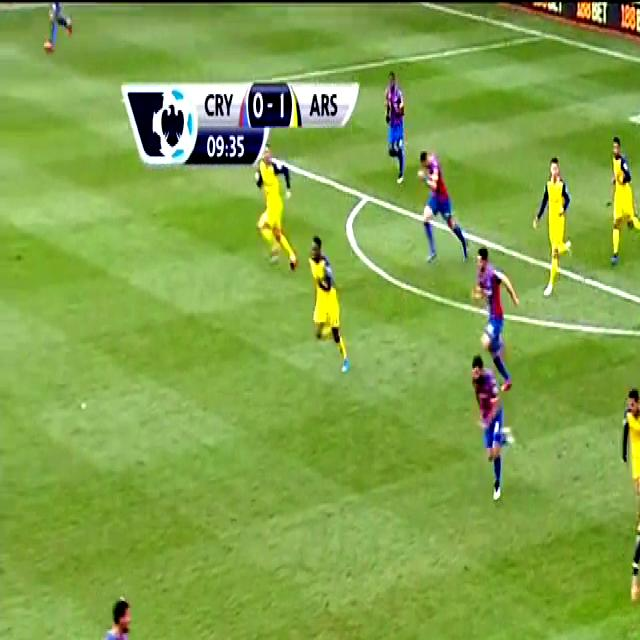soccer-player: (462, 350, 523, 509), (527, 149, 583, 301), (410, 140, 474, 268), (299, 234, 355, 379), (251, 140, 305, 270), (468, 249, 524, 370), (369, 66, 416, 190), (601, 132, 640, 276), (82, 590, 179, 640), (614, 377, 640, 499), (39, 0, 81, 53), (630, 492, 640, 640), (629, 103, 640, 208)
